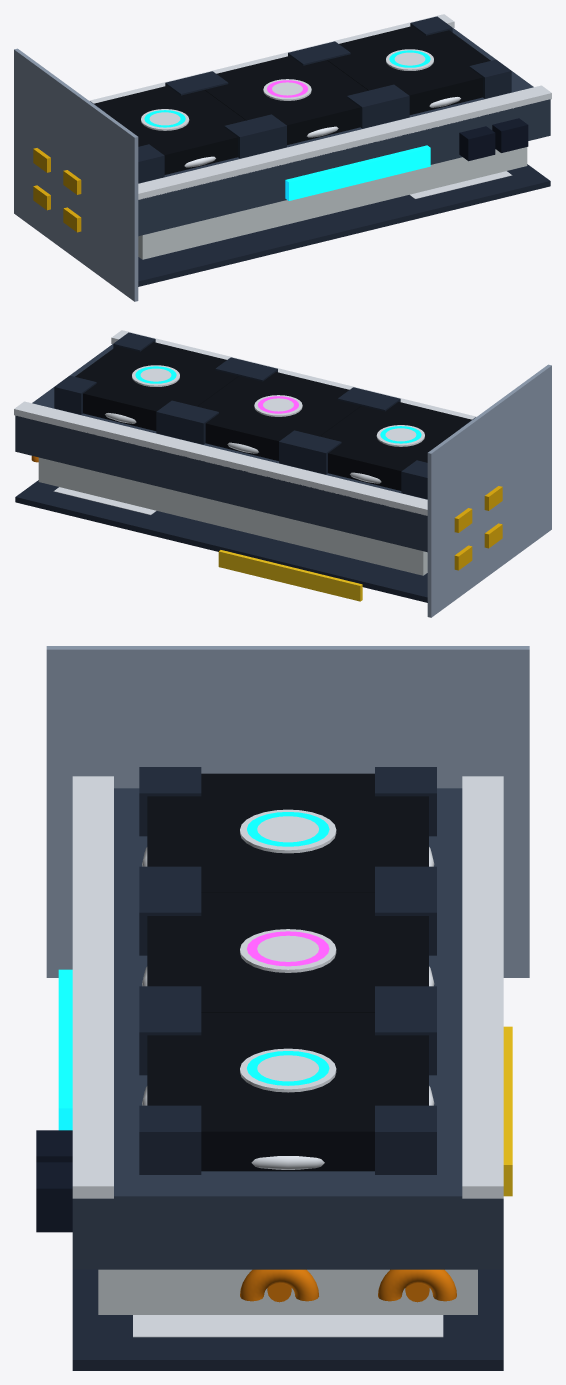
The model's file is gpu.glb.
3 views of the same model, one above another, from view 1: azimuth 30°, elevation 25°; view 2: azimuth 150°, elevation 25°; view 3: azimuth 270°, elevation 25° (orthographic). The views are drawn at different scales.
Bounding box in the file's own units: 0.2865 × 0.1083 × 0.143.
